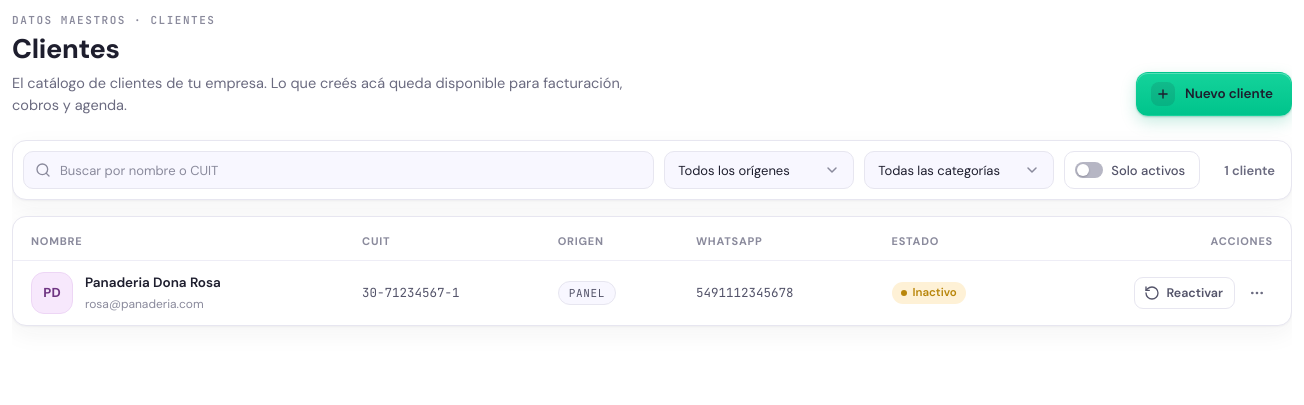
Test: ListadoDeClientes › un cliente inactivo muestra Reactivar a la vista y Editar en el menú
Check: the button "Reactivar" is shown, box [1134,277,1235,309]
Click the button named "Más acciones para": (1257, 293) [1241,277,1273,309]
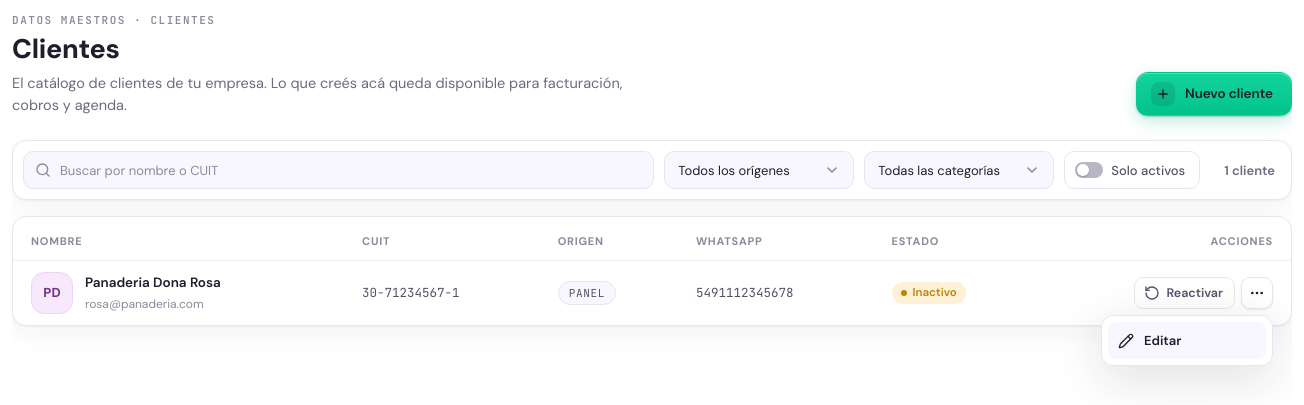
Check: the menu item "Editar" is shown, box [1108,322,1266,359]
